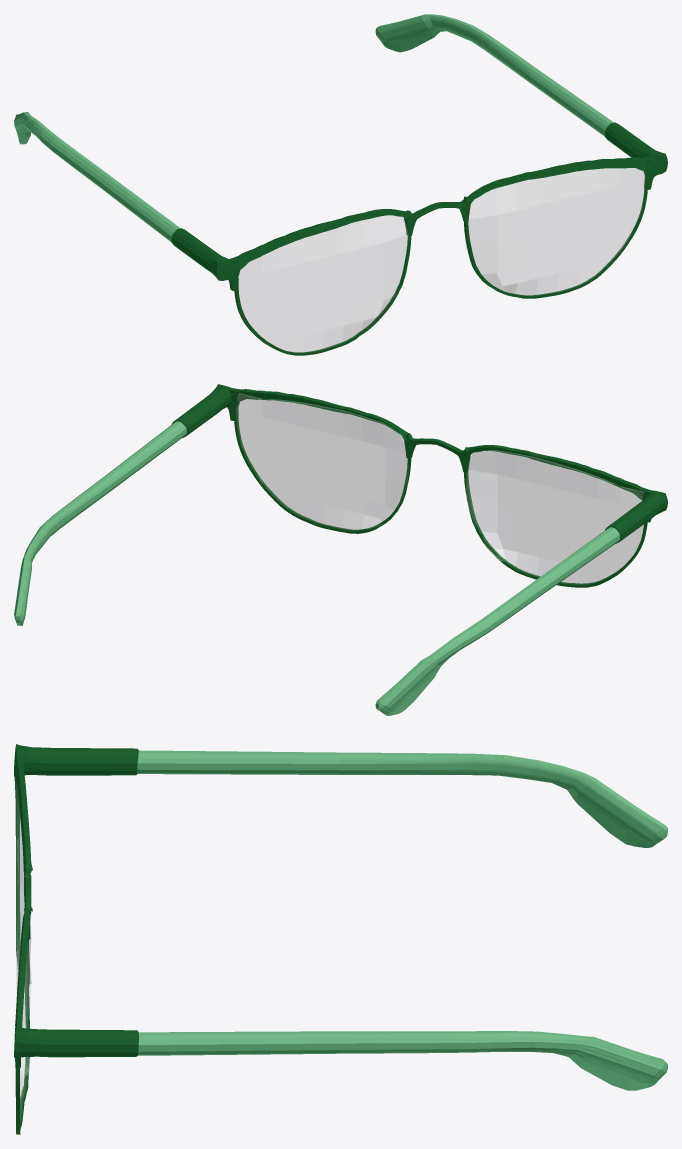
File: 7-Green.glb
The picture shows the model from 3 angles, top to bottom: view 1: azimuth 30°, elevation 25°; view 2: azimuth 150°, elevation 25°; view 3: azimuth 270°, elevation 25°; orthographic projection. The views are drawn at different scales.
Visible parts, largest first — view 1: Lens.001, FrameFront, FrameEnd.001; view 2: Lens.001, FrameEnd.001, FrameFront; view 3: FrameEnd.001, FrameFront, Lens.001.
Part boxes in pixels (<box>): Lens.001: <box>238,168,645,352</box>; FrameFront: <box>171,122,667,355</box>; FrameEnd.001: <box>14,14,613,242</box>; Lens.001: <box>236,393,643,584</box>; FrameEnd.001: <box>14,421,619,715</box>; FrameFront: <box>171,384,667,587</box>; FrameEnd.001: <box>137,750,667,1090</box>; FrameFront: <box>14,744,138,1134</box>; Lens.001: <box>16,789,32,1121</box>.
Bounding box in the file's own units: 2.19 × 0.5922 × 2.07.
